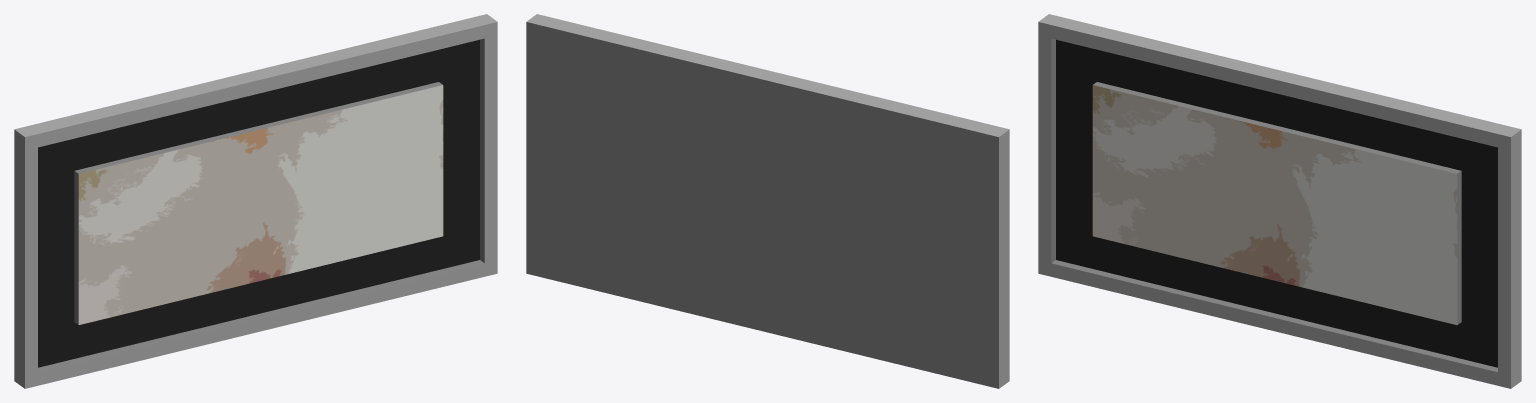
The model's file is Painting.fbx.
3 views of the same model, side by side, from view 1: azimuth 30°, elevation 25°; view 2: azimuth 150°, elevation 25°; view 3: azimuth 330°, elevation 25° (orthographic).
Visible parts, largest first — view 1: Painting; view 2: Painting; view 3: Painting.
Boxes of the visible parts, x1,y1,x2,y2 form: Painting: (14, 14, 497, 388); Painting: (526, 14, 1009, 388); Painting: (1038, 14, 1521, 388).
Bounding box in the file's own units: 93.07 × 47.37 × 3.67.
